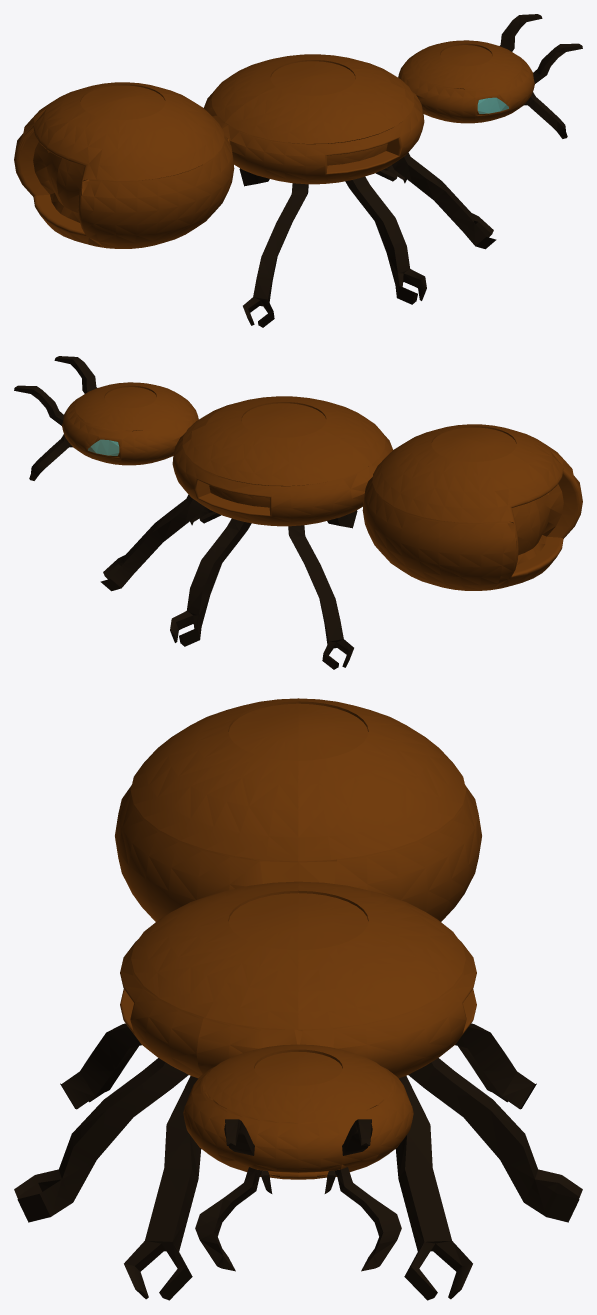
Rendered from AntsShip.fbx.
3 views of the same model, one above another, from view 1: azimuth 30°, elevation 25°; view 2: azimuth 150°, elevation 25°; view 3: azimuth 270°, elevation 25° (orthographic). The views are drawn at different scales.
Visible parts, largest first — view 1: SpaceAntShip; view 2: SpaceAntShip; view 3: SpaceAntShip.
Boxes of the visible parts, <box> form: SpaceAntShip: <box>14,14,582,327</box>; SpaceAntShip: <box>14,356,582,669</box>; SpaceAntShip: <box>14,698,582,1300</box>.
Bounding box in the file's own units: 533 × 196 × 309.
